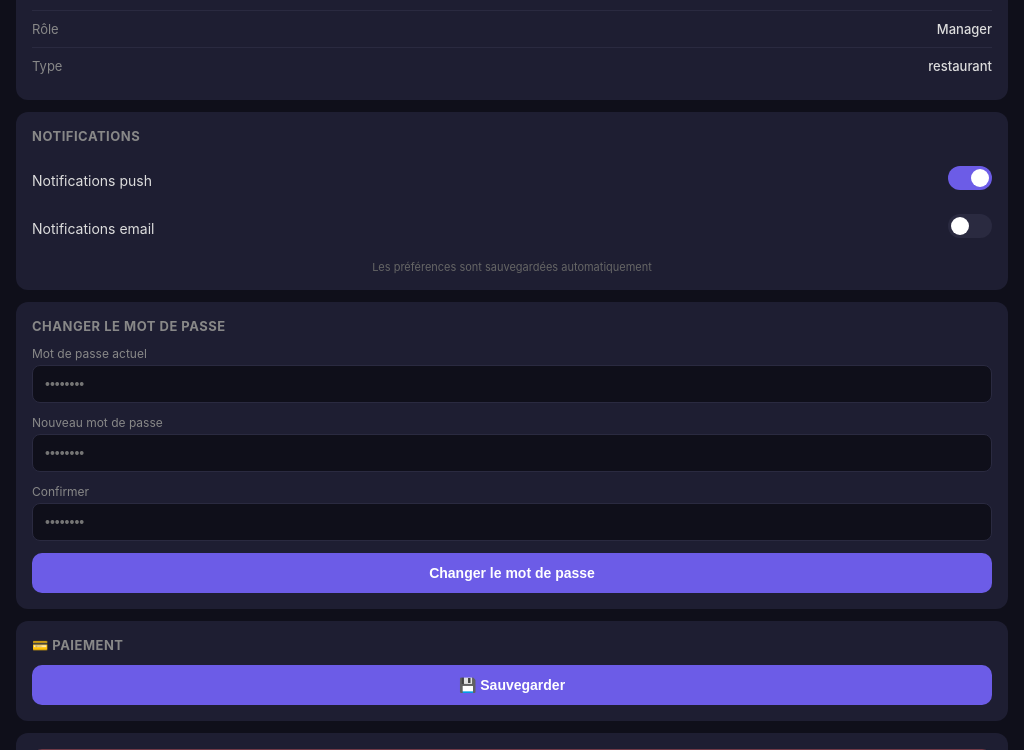
Profile.vue › changePassword validation › refuse si les mots de passe ne correspondent pas
(page scrolled)
Type "currentpwd" into the password field with placeholder "••••••••" below "Mot de passe actuel". click: (512, 384)
box: [32,365,992,403]
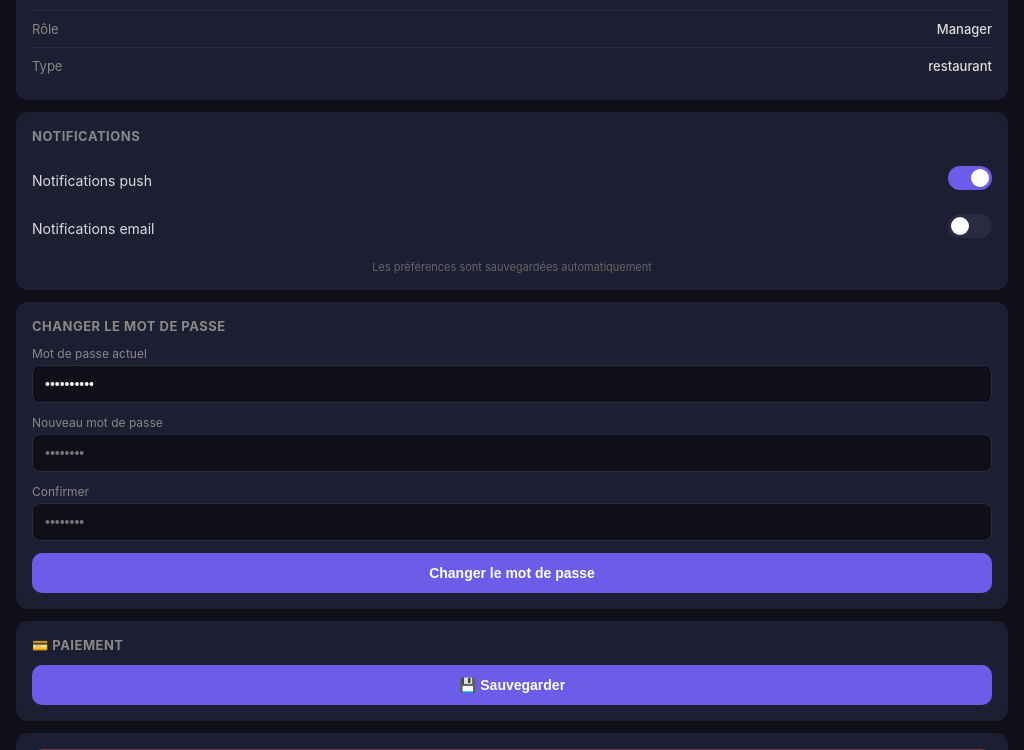
Type "newpass123" into the password field with placeholder "••••••••" below "Nouveau mot de passe". click: (512, 453)
box: [32,434,992,472]
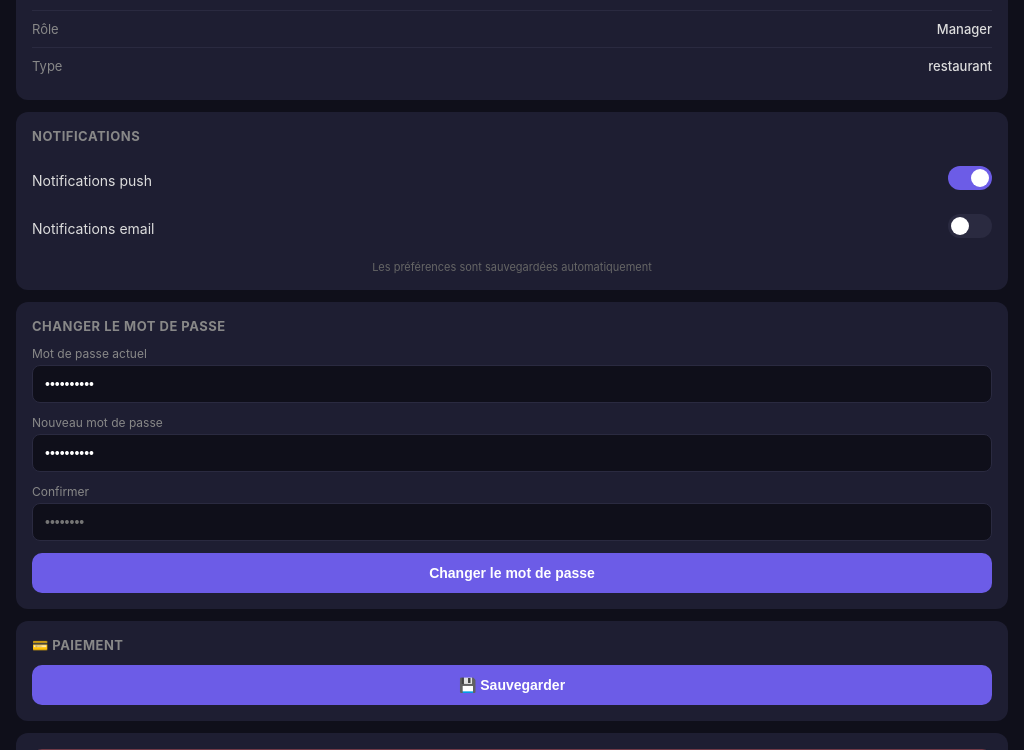
Type "different" into the password field with placeholder "••••••••". click: (512, 522)
box: [32,503,992,541]
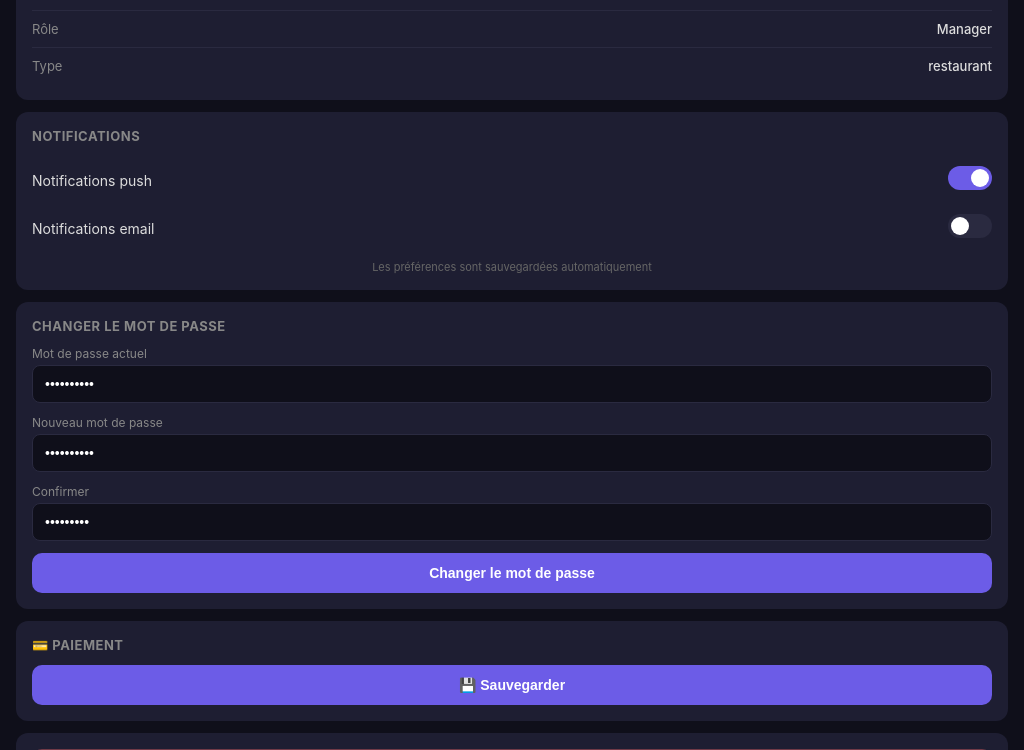
Click the button with class "btn-save" showing "Changer le mot de passe". click: (512, 573)
box: [32,553,992,593]
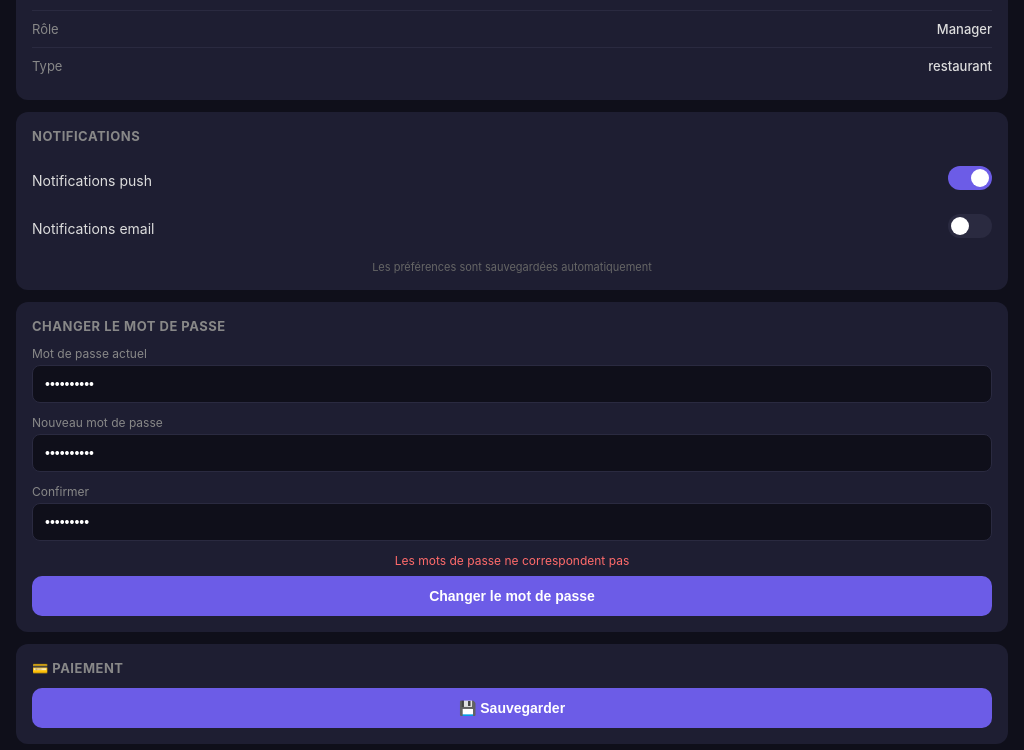
Expected: the text "ne correspondent pas" is shown, [395,553,629,568]
